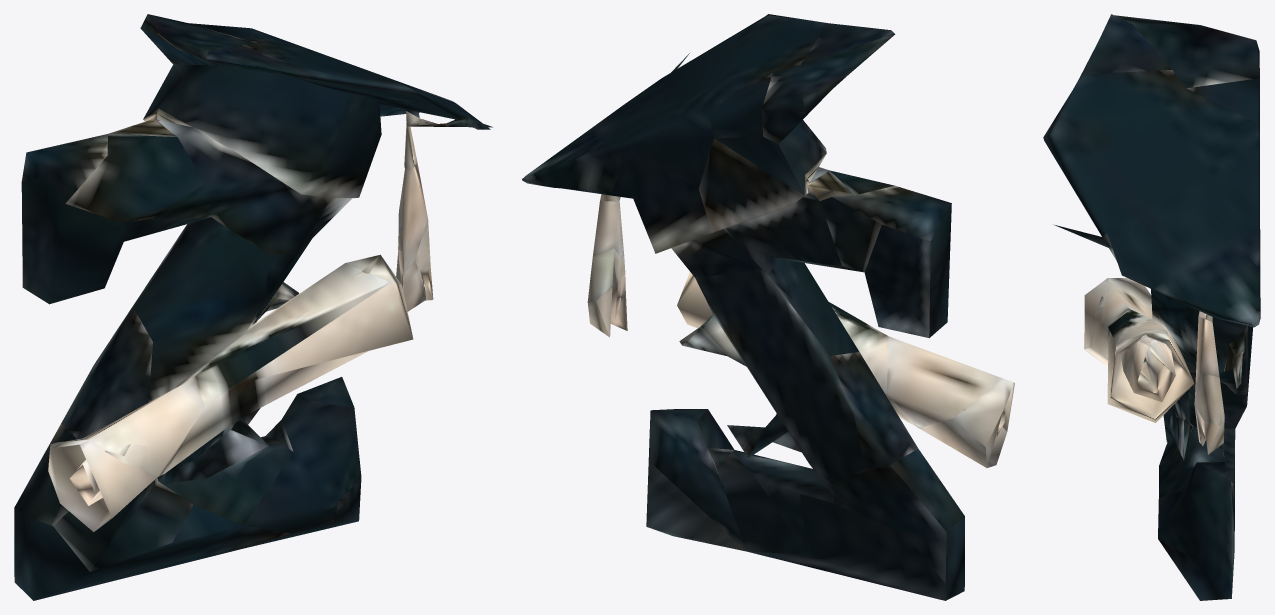
The picture shows the model from 3 angles, left to right: view 1: azimuth 30°, elevation 25°; view 2: azimuth 150°, elevation 25°; view 3: azimuth 270°, elevation 25°; orthographic projection. The views are drawn at different scales.
Parts seen in each view (by area): view 1: Graduation-Z; view 2: Graduation-Z; view 3: Graduation-Z.
Boxes of the visible parts, x1,y1,x2,y2 form: Graduation-Z: (14,14,492,600); Graduation-Z: (522,14,1014,600); Graduation-Z: (1043,14,1260,600).
Bounding box in the file's own units: 0.2762 × 0.3106 × 0.1227.
Materials: 1 (1 with a texture image).
